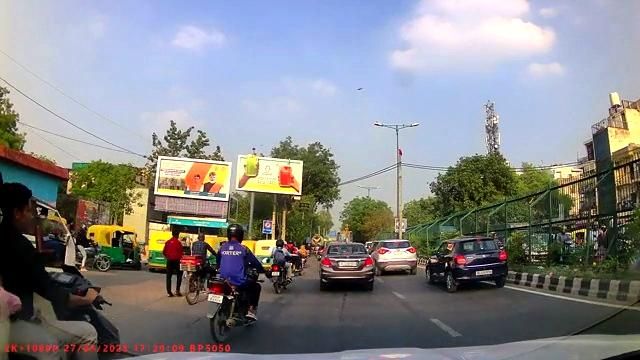motorcycle_with_helmet: (206, 223, 263, 342), (269, 239, 292, 294)
motorcycle_without_helmet: (1, 178, 133, 360)
